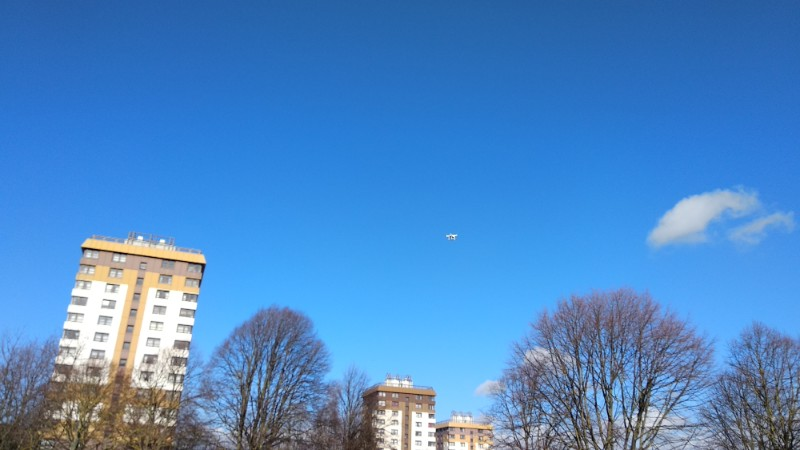drone: (445, 232, 459, 241)
